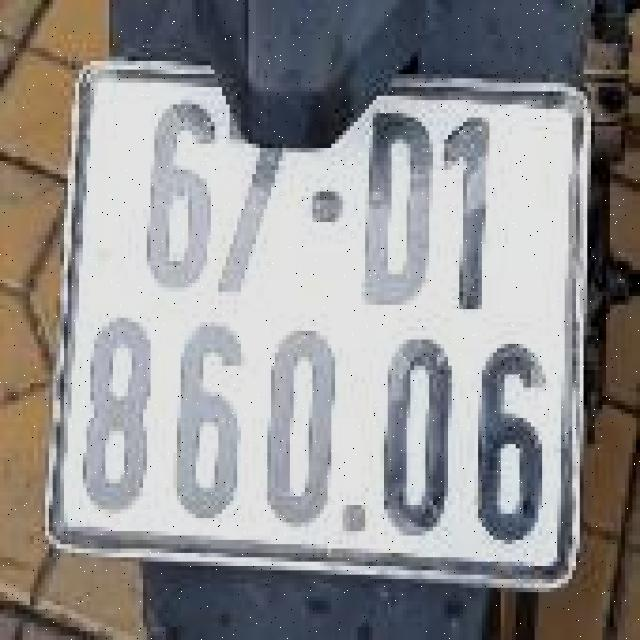0: (247, 311, 341, 529), (371, 331, 454, 540)
1: (435, 100, 499, 314)
6: (465, 314, 551, 558), (164, 307, 250, 525), (143, 98, 222, 289)
7: (224, 96, 292, 292)
8: (81, 309, 152, 514)
D: (348, 89, 431, 316)
